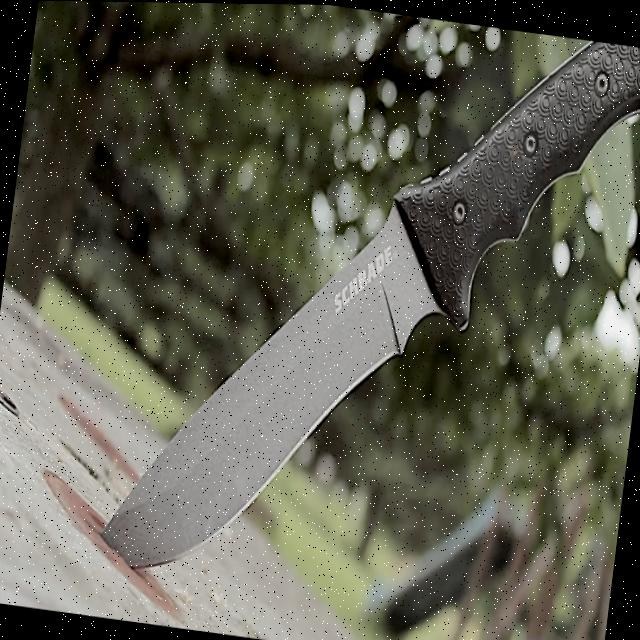knife: (93, 1, 640, 611)
